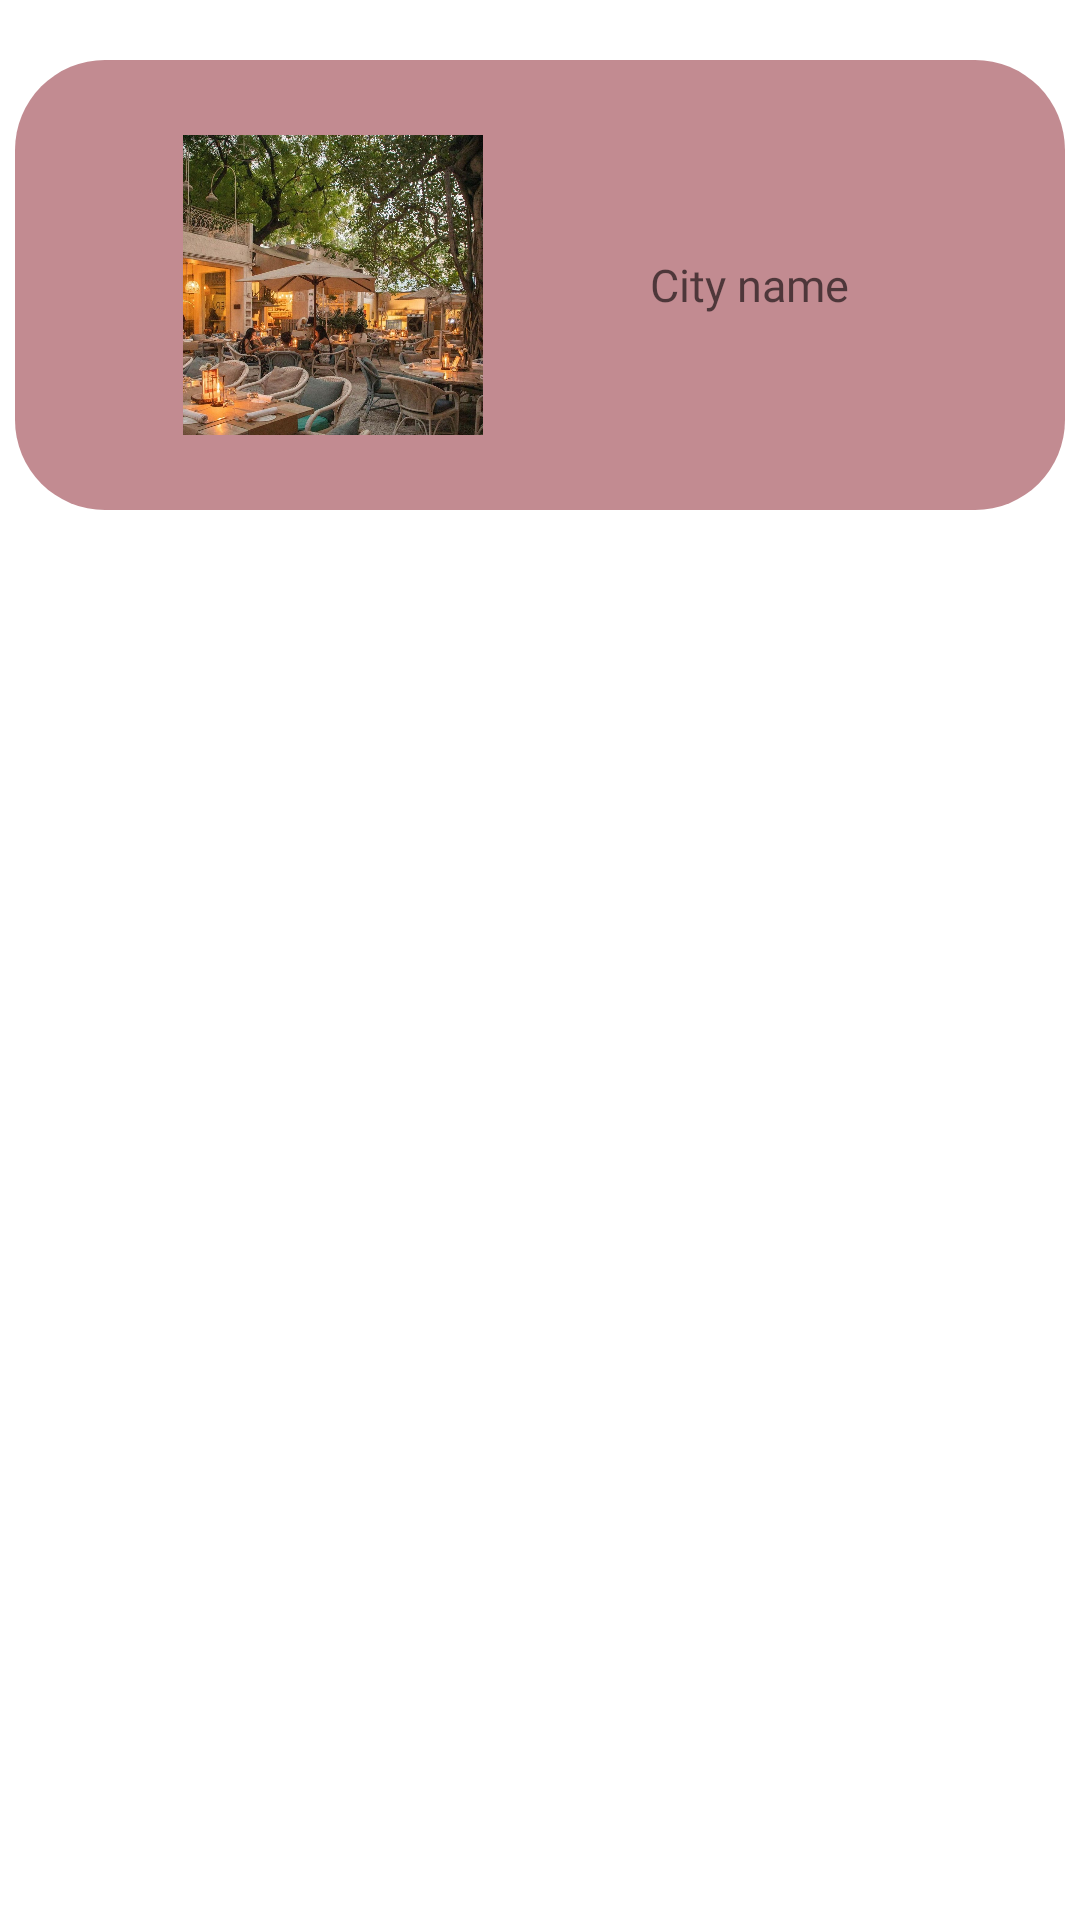

Where to tap for icons on this 1080px×1920px app screen, as (x,y):
restaurant: (333,285)
